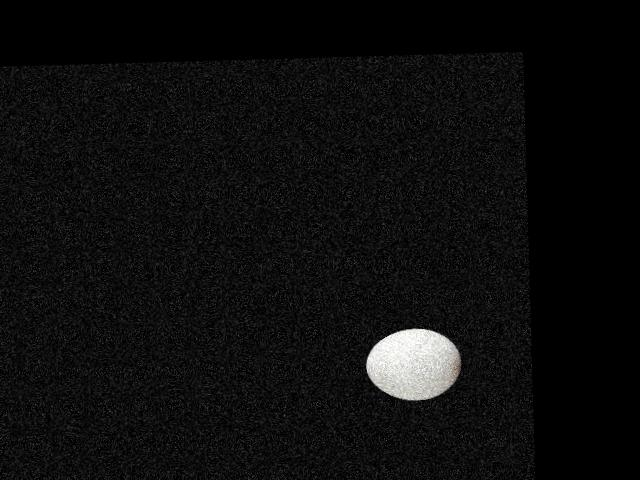egg: (365, 326, 462, 401)
